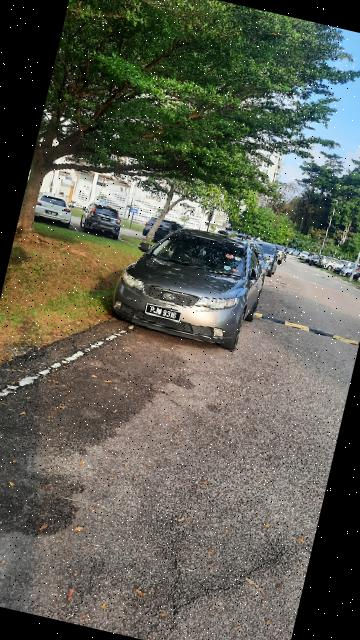License_Plate: (142, 302, 185, 327)
car: (102, 213, 276, 359), (76, 199, 127, 242), (32, 192, 79, 232)
